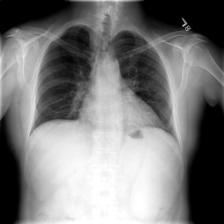normal: (27, 17, 182, 149)
